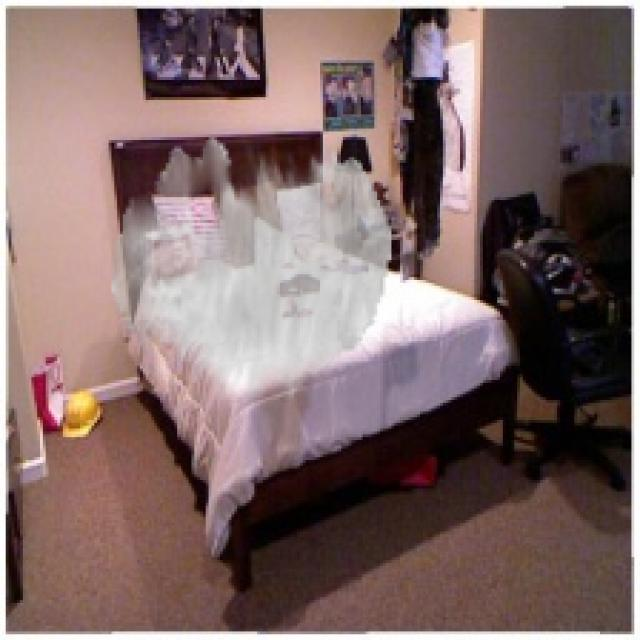smoke: (111, 137, 392, 400)
